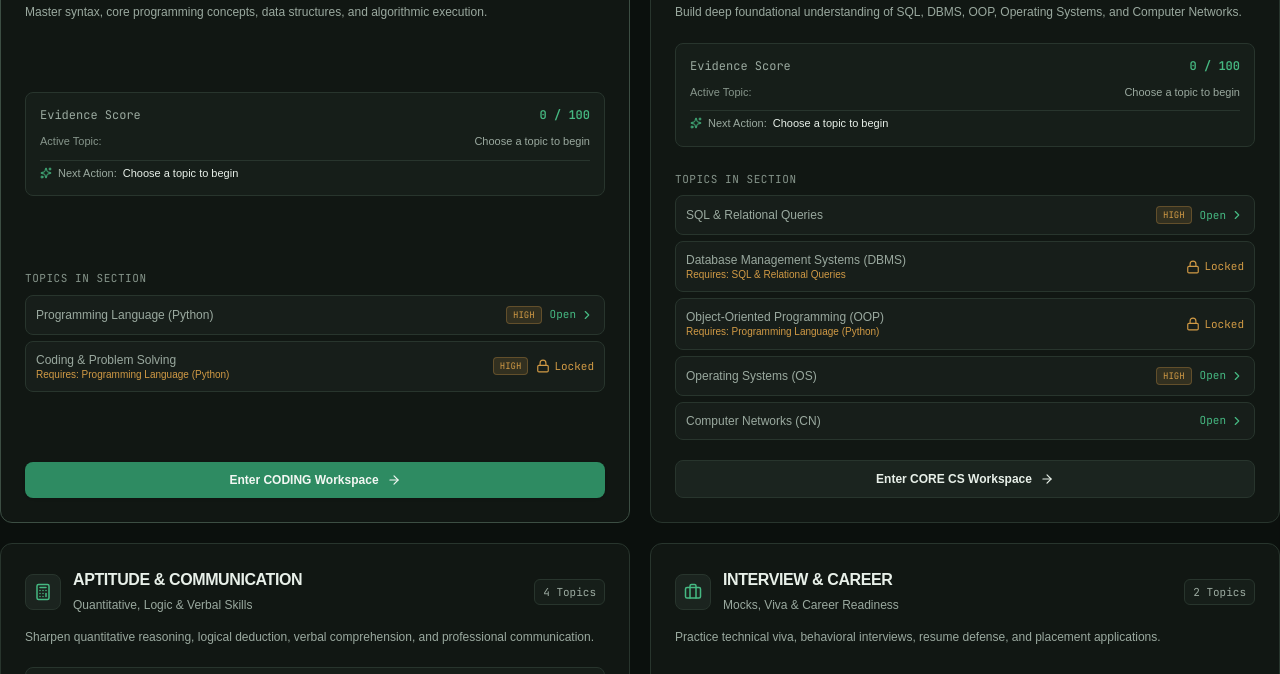
Test: PREPARATION MANUFACTURING PART 1: Hub & Macro Progression › 7. Navigates to topic workspace when a topic is clicked
The image size is (1280, 674).
(page scrolled)
# Click Python topic
Click the button with test id "topic-item-prep-lang": (125,315) [25,295,605,335]
(page scrolled)
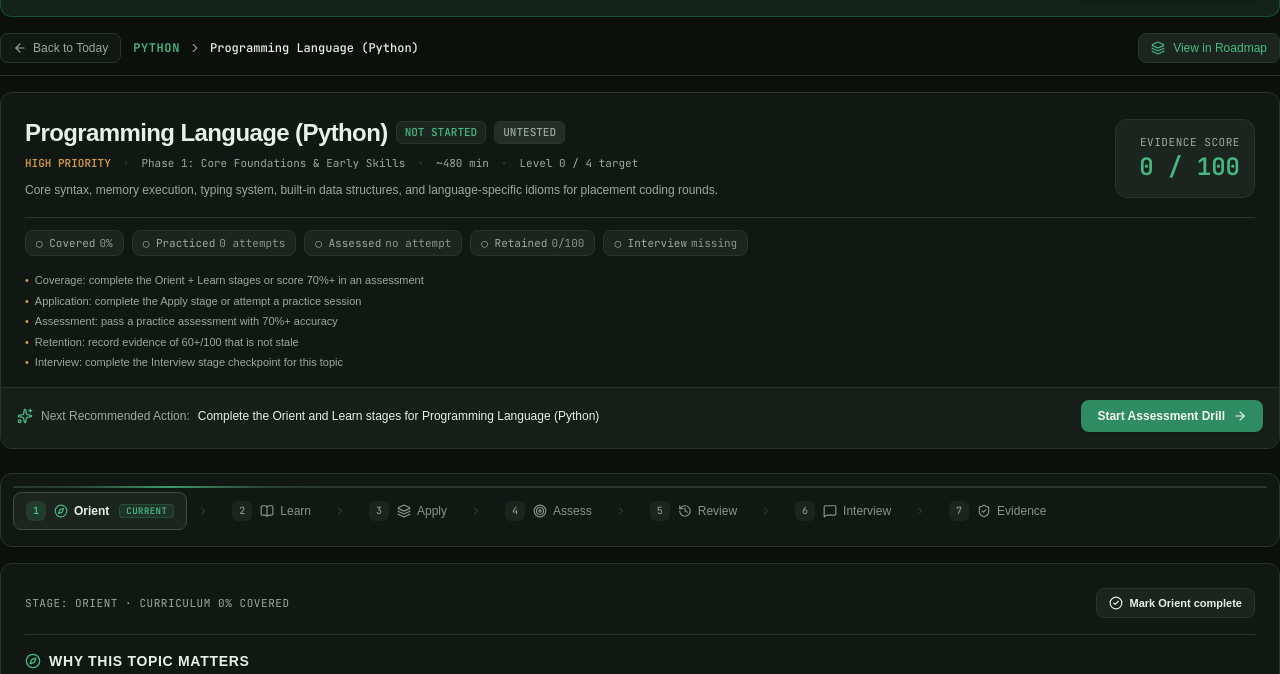
Check: the heading "Programming Language (Python)" is shown, box [25,116,388,148]
